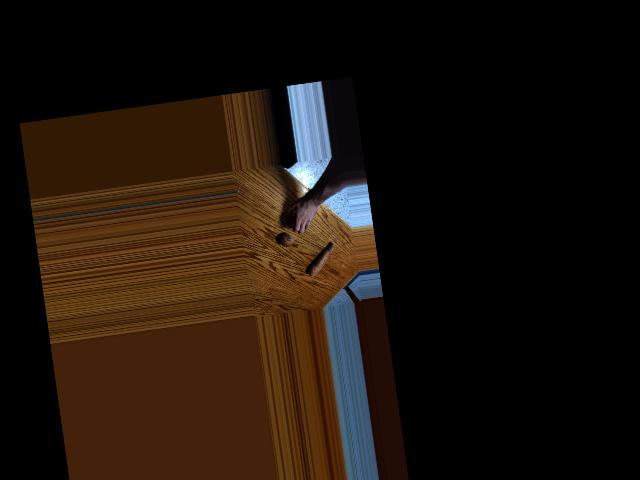onion: (286, 212, 302, 228)
